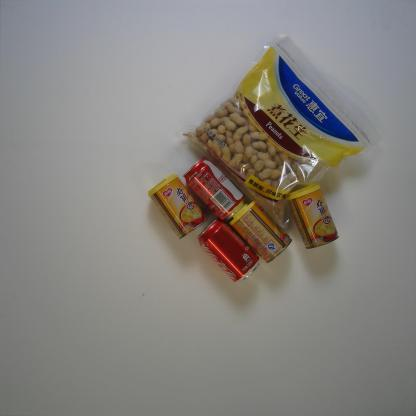Canned Food: (229, 199, 293, 263), (147, 173, 208, 240), (285, 183, 340, 250)
Dried Food: (180, 33, 381, 229)
Drink: (182, 157, 248, 221), (196, 218, 260, 283)
